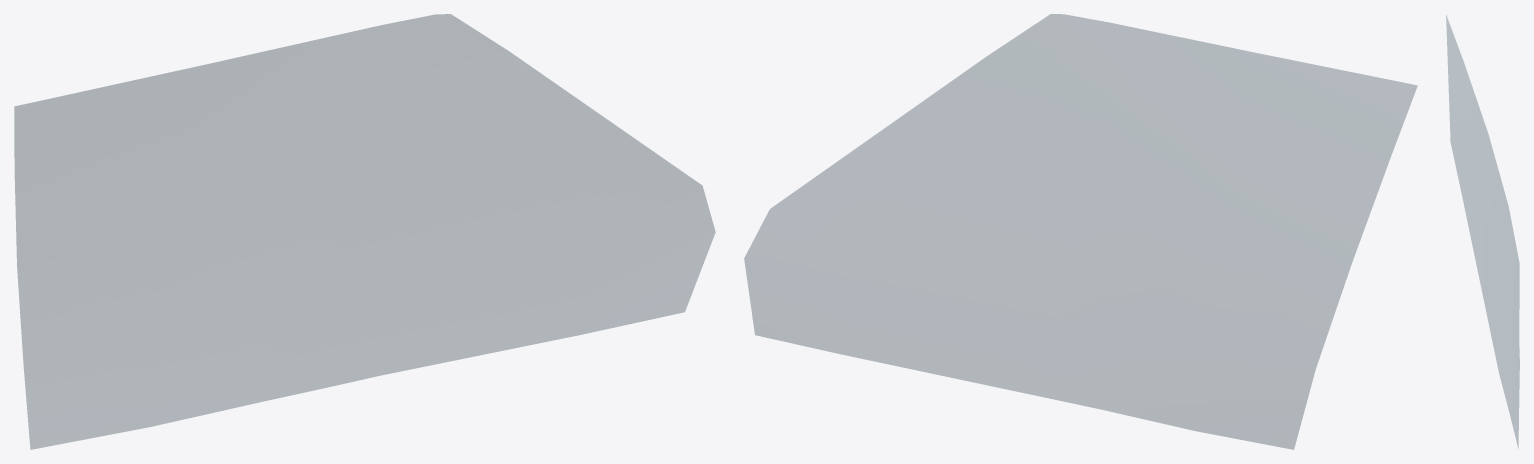
The picture shows the model from 3 angles, left to right: view 1: azimuth 30°, elevation 25°; view 2: azimuth 150°, elevation 25°; view 3: azimuth 270°, elevation 25°; orthographic projection. The views are drawn at different scales.
Parts seen in each view (by area): view 1: SM_NissanPatrol_Door_FL_Glass_Int2; view 2: SM_NissanPatrol_Door_FL_Glass_Int2; view 3: SM_NissanPatrol_Door_FL_Glass_Int2.
Boxes of the visible parts, bbox=[...] form: SM_NissanPatrol_Door_FL_Glass_Int2: bbox=[14, 14, 715, 449]; SM_NissanPatrol_Door_FL_Glass_Int2: bbox=[744, 14, 1417, 449]; SM_NissanPatrol_Door_FL_Glass_Int2: bbox=[1446, 15, 1519, 448].
Size of the model in its own units: 0.929 by 0.5076 by 0.1427.
